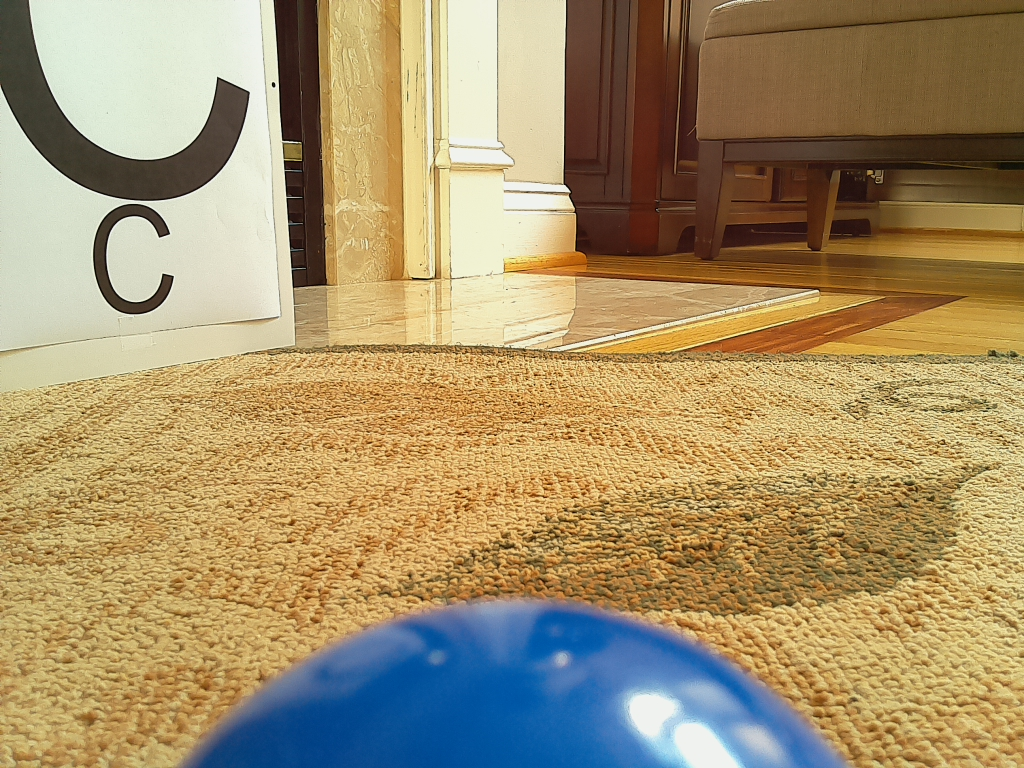letter: (93, 205, 173, 315)
